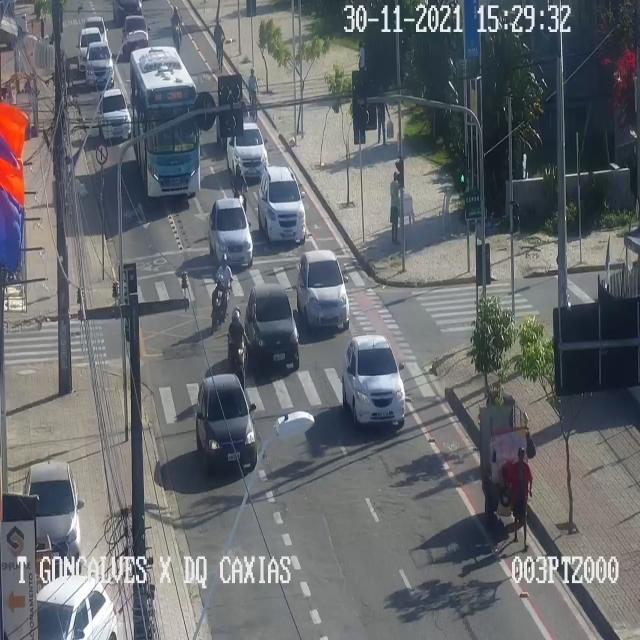Bus: (129, 46, 202, 196)
Car: (24, 460, 84, 564), (198, 372, 258, 468), (342, 336, 406, 425), (35, 575, 115, 639), (247, 283, 301, 375), (298, 250, 350, 330), (259, 166, 306, 241), (210, 199, 254, 270), (226, 123, 270, 183), (97, 88, 132, 140), (77, 25, 105, 72), (86, 42, 114, 86), (121, 14, 151, 54), (109, 0, 150, 26), (85, 17, 109, 44)
Motorcycle: (227, 308, 247, 391), (212, 253, 230, 327), (170, 7, 182, 53)
